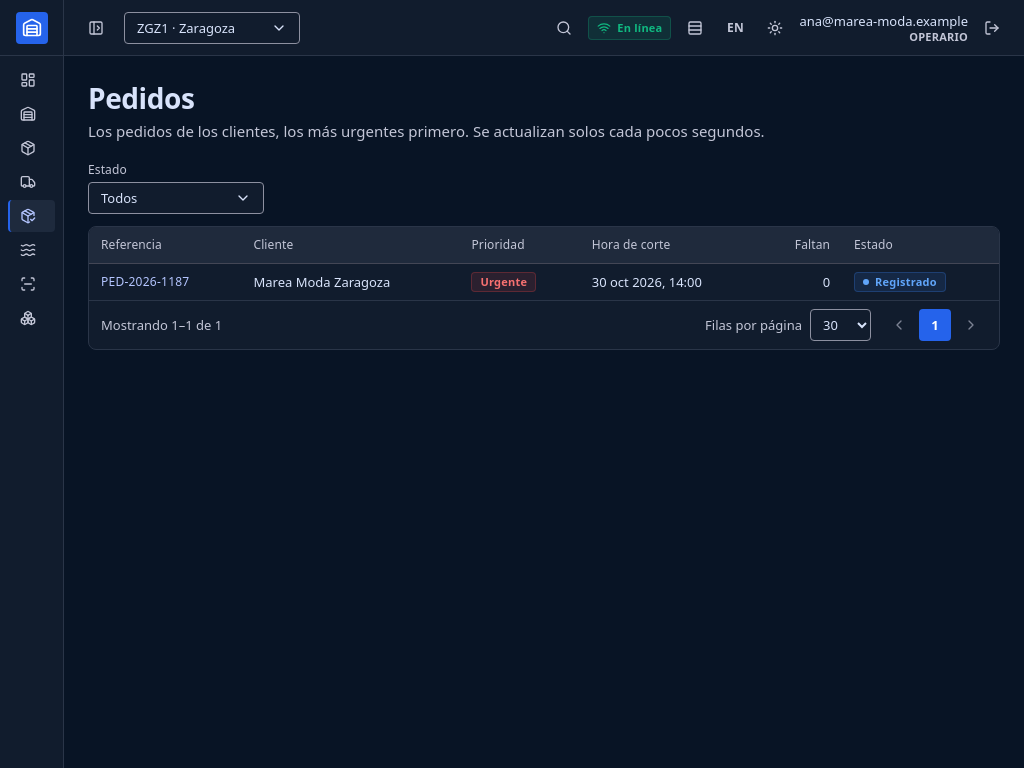
it: the orders list › filters by status on the server and keeps it in the address
The width and height of the screenshot is (1024, 768).
Expected: the link "PED-2026-1187" is shown, [101, 272, 190, 290]
Click the dropdown named "Estado": (176, 198) [88, 182, 264, 214]
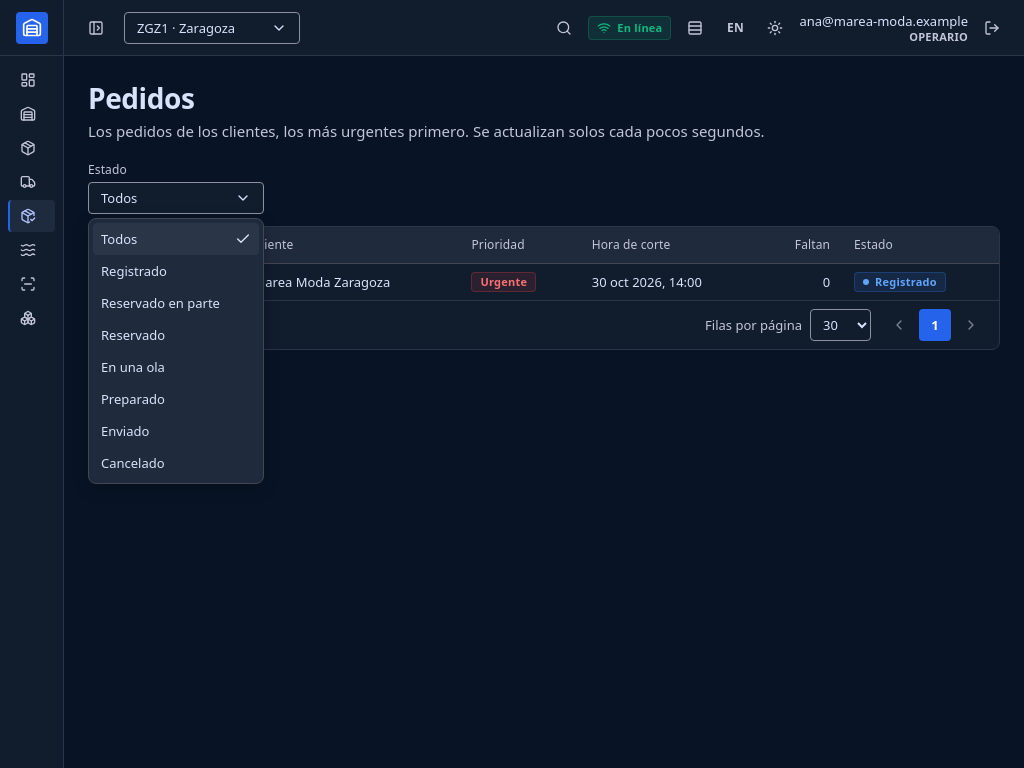
Click the option "Enviado": (125, 431) [101, 422, 149, 440]
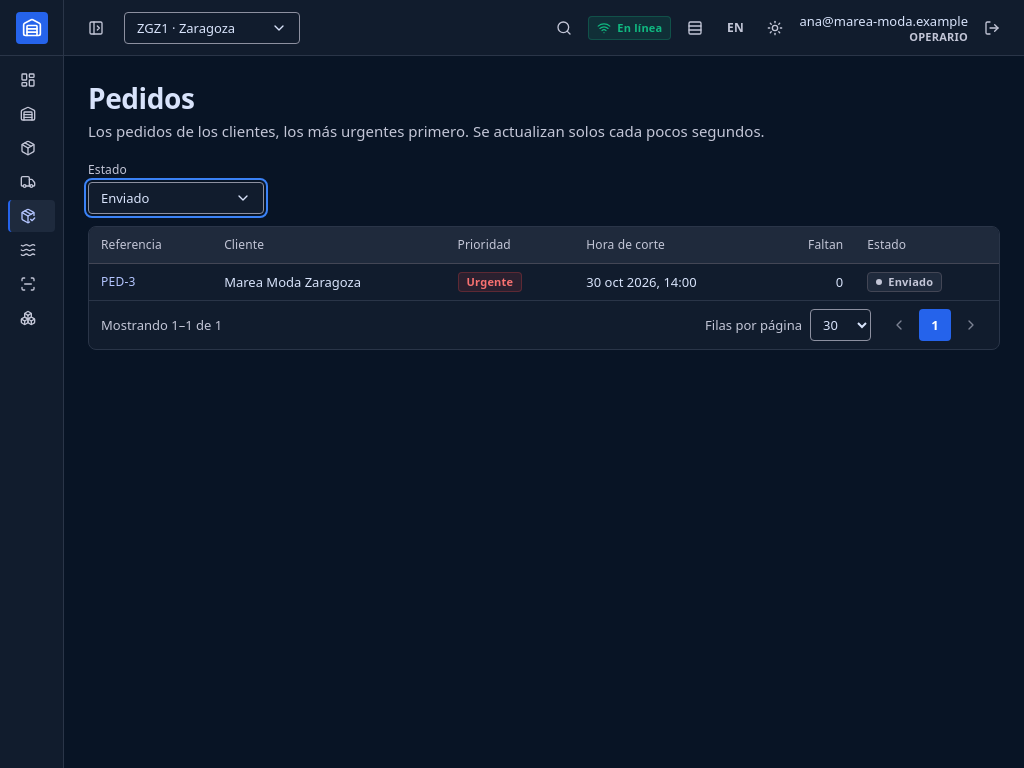
Now the link "PED-3" is shown, box [101, 272, 136, 290]
